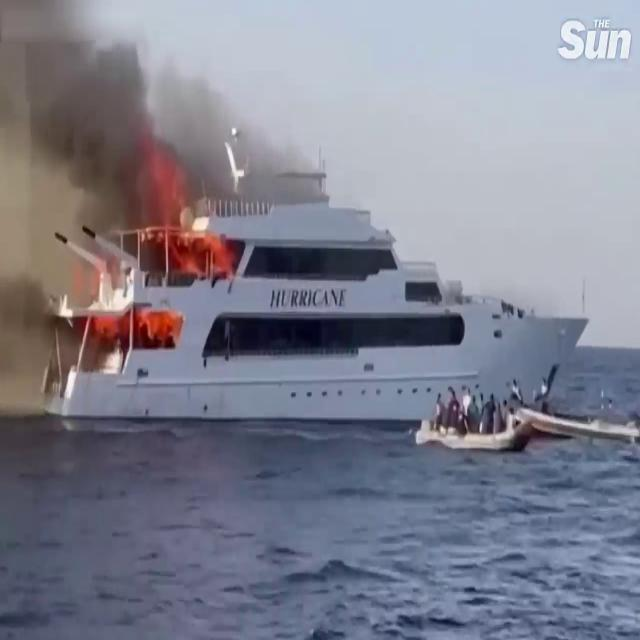Fire: (167, 198, 233, 278)
Smoke: (0, 1, 254, 224)
